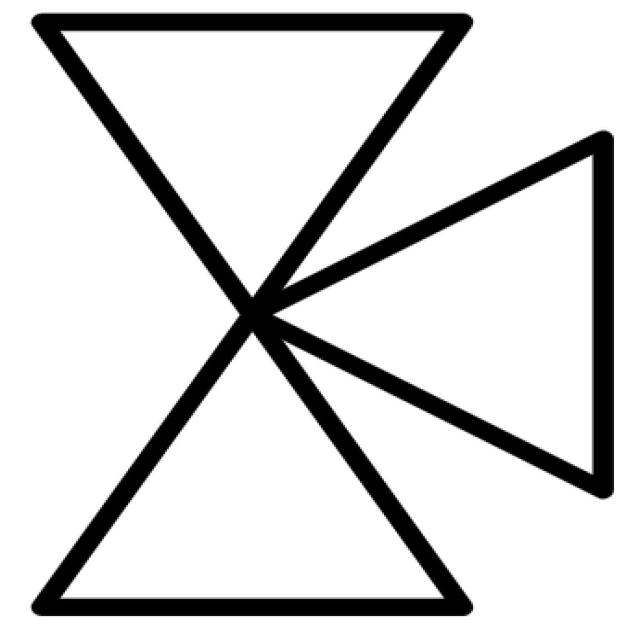3-way Valve: (46, 18, 465, 610), (262, 139, 605, 489)
